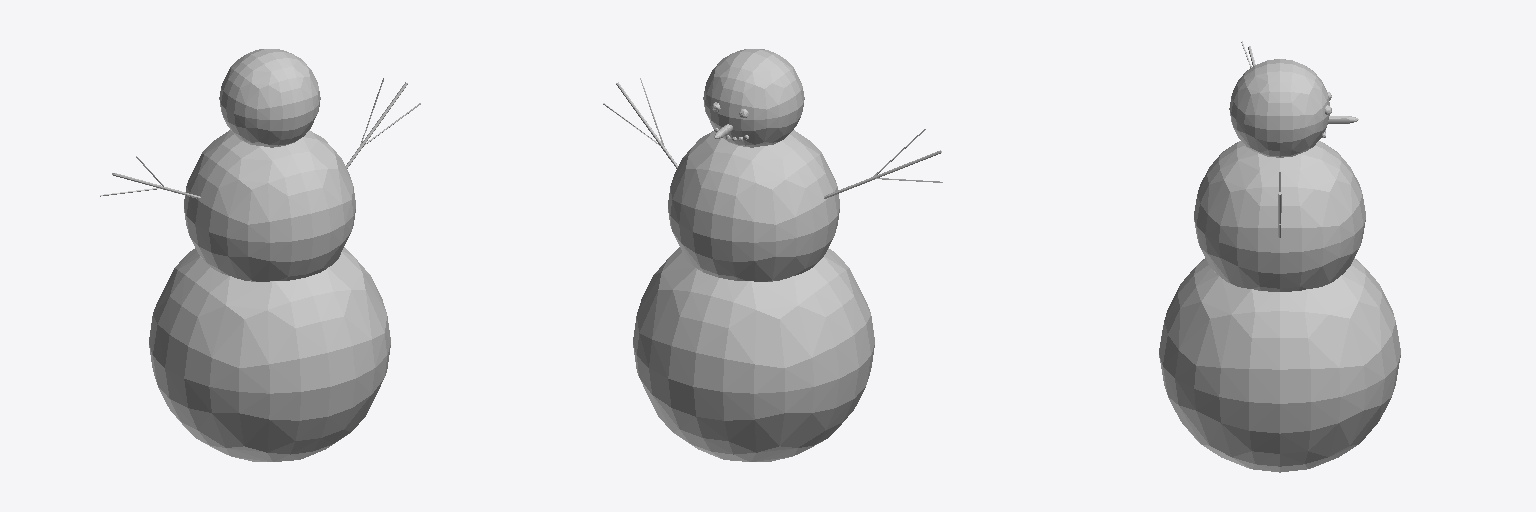
File: snowman.obj
3 views of the same model, side by side, from view 1: azimuth 30°, elevation 25°; view 2: azimuth 150°, elevation 25°; view 3: azimuth 270°, elevation 25° (orthographic).
Visible parts, largest first — view 1: Cube.001; view 2: Cube.001; view 3: Cube.001.
Part boxes in pixels (left/top/right/bottom): Cube.001: left=100, top=49, right=420, bottom=461; Cube.001: left=603, top=49, right=942, bottom=461; Cube.001: left=1159, top=41, right=1400, bottom=472.
Bounding box in the file's own units: 3.15 × 3.64 × 2.